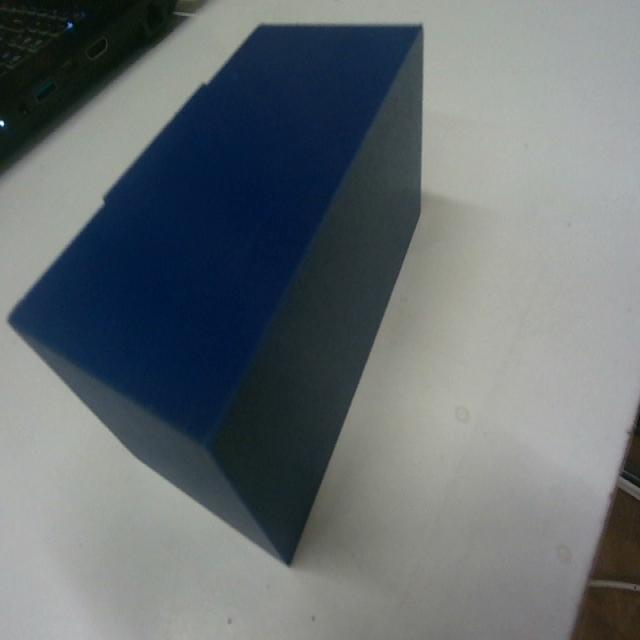Blue Cuboid: (7, 19, 426, 565)
